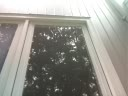window: (32, 22, 86, 96), (2, 24, 16, 54)
